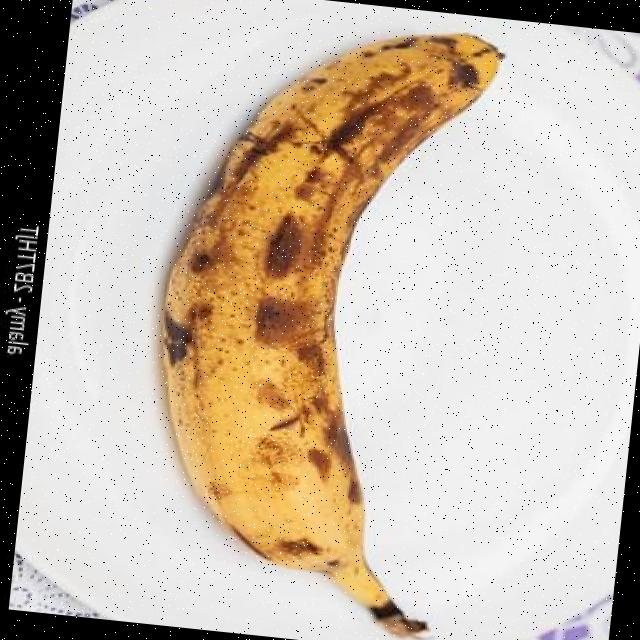overripe: (125, 1, 516, 626)
